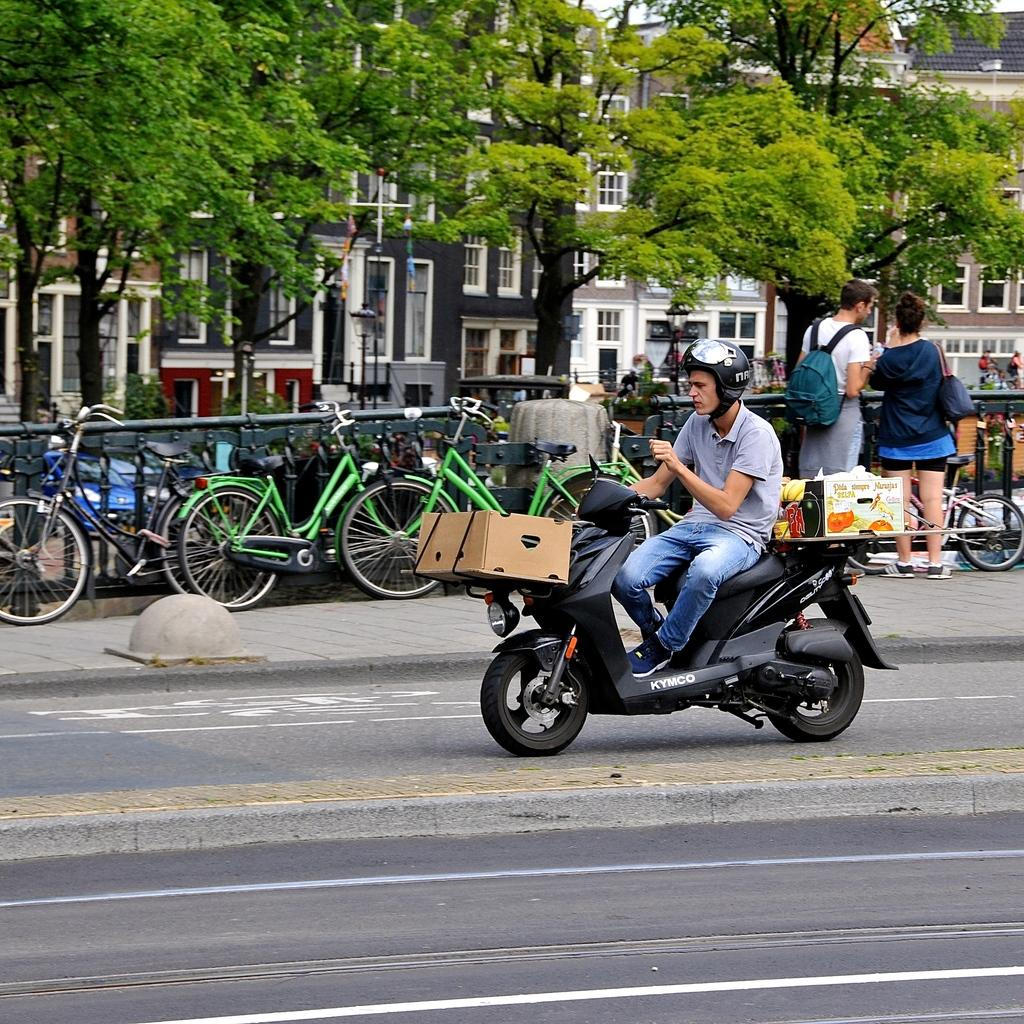helmet: (680, 340, 750, 414)
nohelmet: (840, 279, 876, 326), (895, 294, 926, 336)
